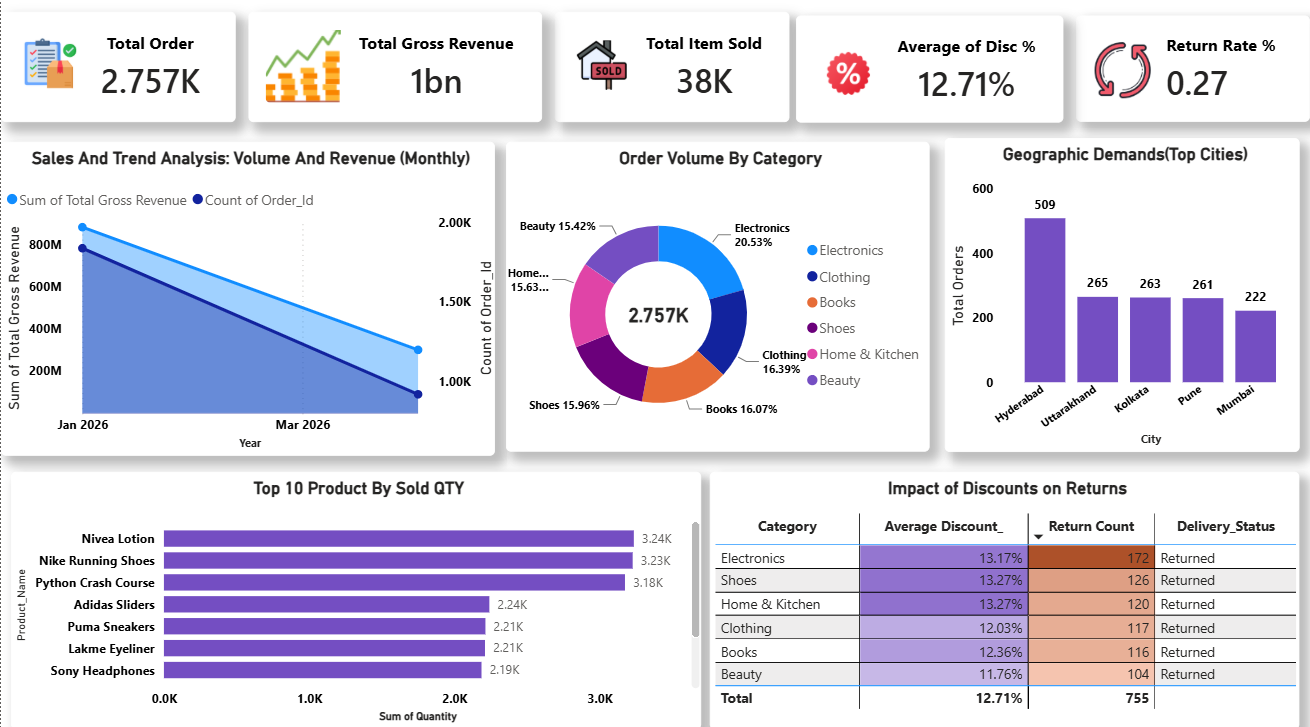

The page's visual inventory and layout, read from the dashboard file:
{"tool":"powerbi","page":{"name":"Page 1","canvas":[1280,720],"ordinal":0},"visuals":[{"type":"cardVisual","fields":{"Data":["CountNonNull(Flipkart Sales Project.Order_Id)"]},"box":[0,18.3,229.9,107.6],"z":0},{"type":"cardVisual","fields":{"Data":["Sum(Flipkart Sales Project.Quantity)"]},"box":[541.7,18.3,229.9,107.6],"z":1000},{"type":"cardVisual","fields":{"Data":["Sum(Flipkart Sales Project.Total Gross Revenue)"]},"box":[242.1,18.3,287.4,107.6],"z":2000},{"type":"cardVisual","fields":{"Data":["Flipkart Sales Project.Return Rate %"]},"box":[1051.6,22,228.7,103.9],"z":3000},{"type":"cardVisual","fields":{"Data":["Avg(Flipkart Sales Project.Discount_Pct)"]},"box":[777.7,22,261.7,105.2],"z":4000},{"type":"lineChart","title":"Sales And Trend Analysis: Volume And Revenue (Monthly)","fields":{"Category":["Flipkart Sales Project.Order_Date.Variation.Date Hierarchy.Year","Flipkart Sales Project.Order_Date.Variation.Date Hierarchy.Quarter","Flipkart Sales Project.Order_Date.Variation.Date Hierarchy.Month","Flipkart Sales Project.Order_Date.Variation.Date Hierarchy.Day"],"Y":["Sum(Flipkart Sales Project.Total Gross Revenue)"],"Y2":["CountNonNull(Flipkart Sales Project.Order_Id)"]},"box":[0,145.5,483,306.9],"z":5000},{"type":"donutChart","title":"Order Volume By Category","fields":{"Category":["Flipkart Sales Project.Category"],"Y":["CountNonNull(Flipkart Sales Project.Order_Id)"]},"box":[494,145.5,414.5,303.3],"z":6000},{"type":"clusteredColumnChart","title":"Geographic Demands(Top Cities)","fields":{"Category":["Flipkart Sales Project.City"],"Y":["CountNonNull(Flipkart Sales Project.Order_Id)"]},"box":[923.2,141.8,347.3,306.9],"z":7000},{"type":"clusteredBarChart","title":"Top 10 Product By Sold QTY","fields":{"Category":["Flipkart Sales Project.Product_Name"],"Y":["Sum(Flipkart Sales Project.Quantity)"]},"box":[9.8,468.3,675,251.9],"z":8000},{"type":"tableEx","title":"Impact of Discounts on Returns","fields":{"Values":["Flipkart Sales Project.Category","Avg(Flipkart Sales Project.Discount_Pct)","CountNonNull(Flipkart Sales Project.Order_Id)","Flipkart Sales Project.Delivery_Status"]},"box":[693.3,468.3,577.2,251.9],"z":9000}]}

Visuals, with their boxes in screenshot pixels (x1, y1, x2, y2), scaled from the page's 1280x720 canvas onto the 1310x727 screenshot:
cardVisual - CountNonNull(Flipkart Sales Project.Order_Id): (left=0, top=18, right=235, bottom=127)
cardVisual - Sum(Flipkart Sales Project.Quantity): (left=554, top=18, right=790, bottom=127)
cardVisual - Sum(Flipkart Sales Project.Total Gross Revenue): (left=248, top=18, right=542, bottom=127)
cardVisual - Flipkart Sales Project.Return Rate %: (left=1076, top=22, right=1309, bottom=127)
cardVisual - Avg(Flipkart Sales Project.Discount_Pct): (left=796, top=22, right=1064, bottom=128)
"Sales And Trend Analysis: Volume And Revenue (Monthly)" lineChart: (left=0, top=147, right=494, bottom=457)
"Order Volume By Category" donutChart: (left=506, top=147, right=930, bottom=453)
"Geographic Demands(Top Cities)" clusteredColumnChart: (left=945, top=143, right=1300, bottom=453)
"Top 10 Product By Sold QTY" clusteredBarChart: (left=10, top=473, right=701, bottom=726)
"Impact of Discounts on Returns" tableEx: (left=710, top=473, right=1300, bottom=726)
